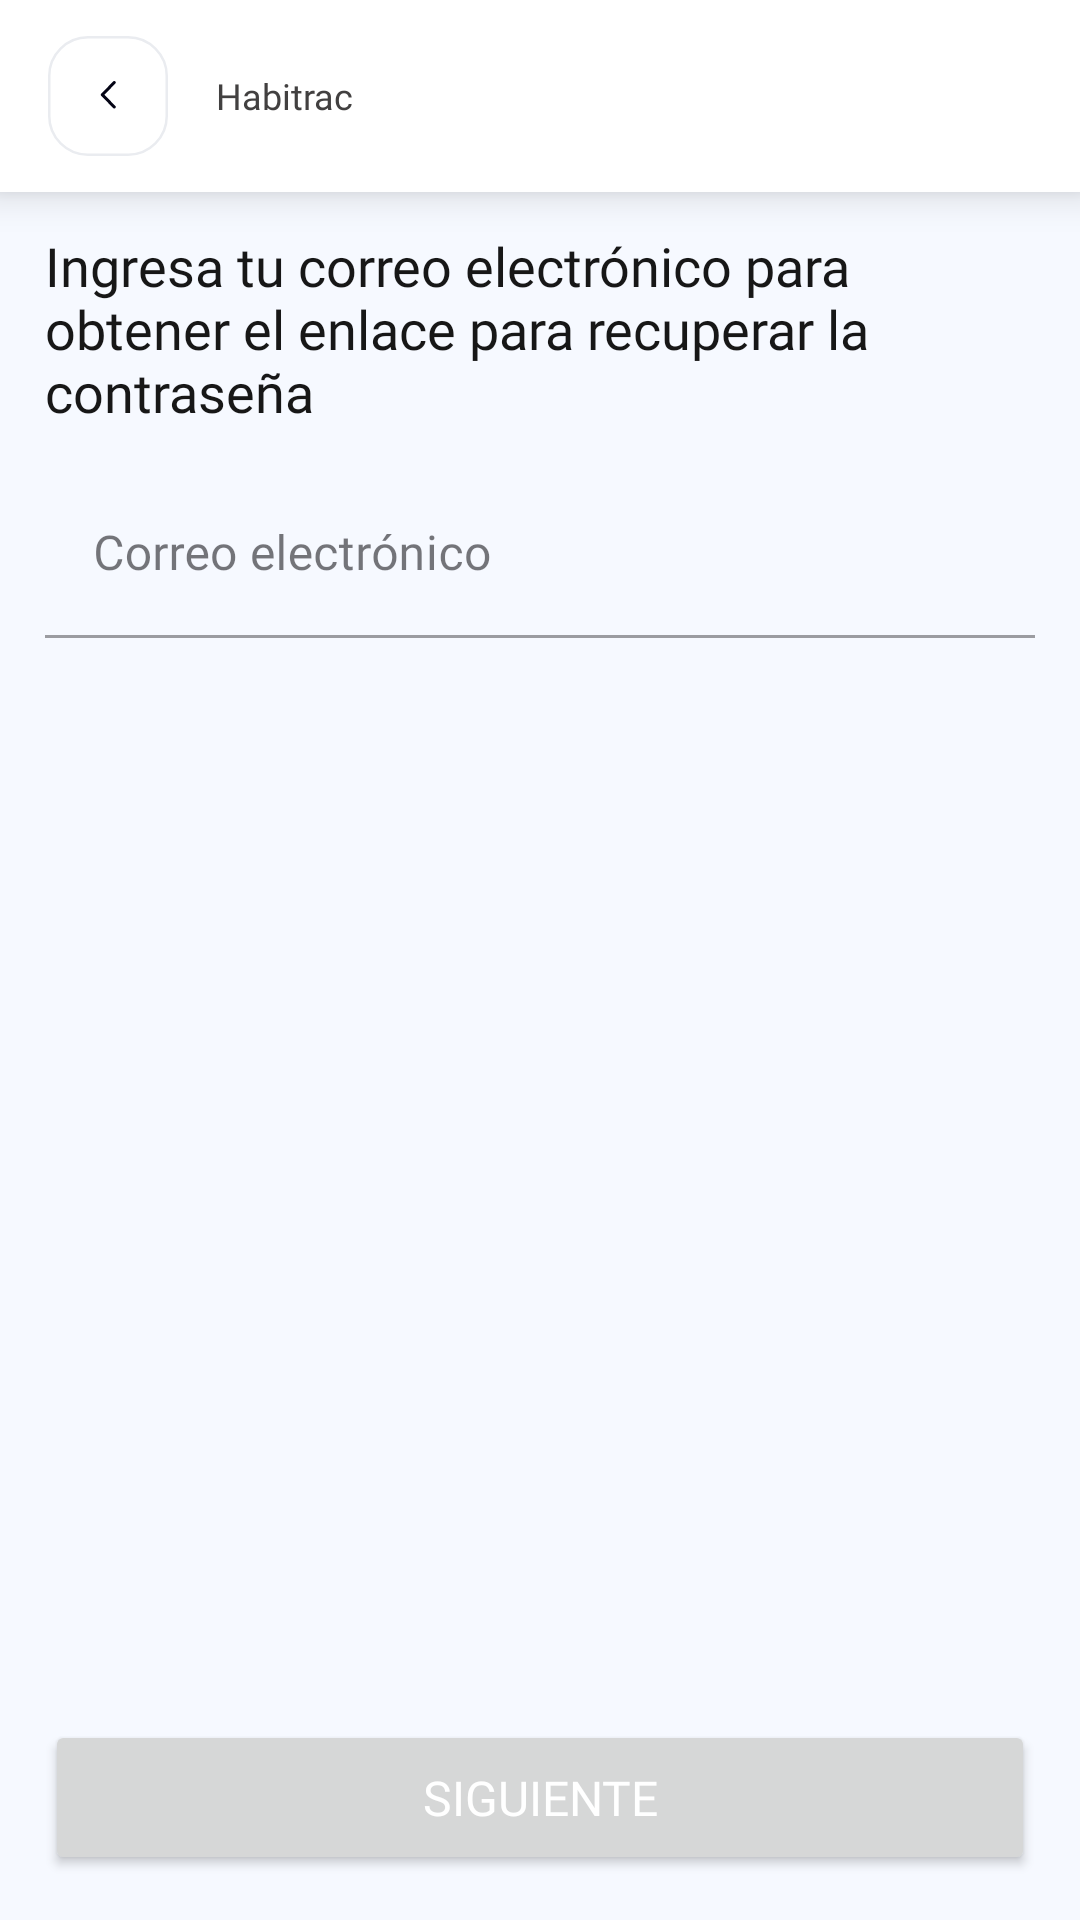

Named icons in this screenshot (1080w x 1920h) and their centers, point (x, y):
back: point (108, 95)
